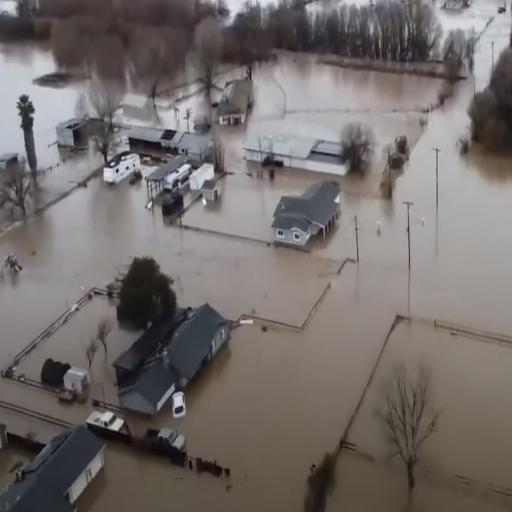flood: (0, 58, 512, 512), (327, 321, 512, 512), (0, 295, 140, 445), (0, 40, 87, 165), (183, 168, 323, 244), (217, 112, 368, 170), (434, 0, 512, 90), (112, 81, 211, 130), (32, 149, 103, 209), (253, 78, 284, 119), (0, 208, 22, 228), (225, 0, 246, 19)
house: (109, 292, 228, 420), (0, 423, 112, 512), (273, 174, 340, 250), (249, 130, 350, 178), (148, 154, 222, 216), (216, 74, 253, 130)
